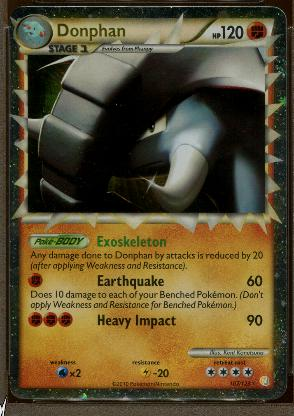Card: (7, 4, 289, 404)
